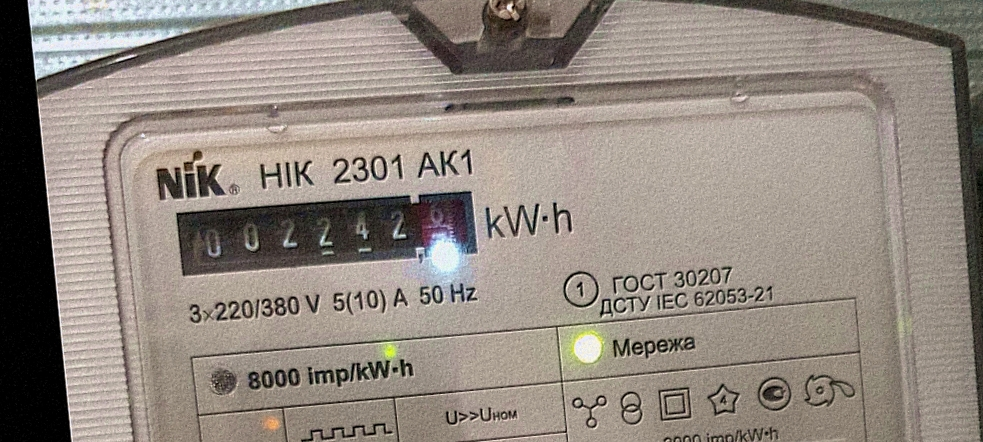0: (203, 226, 226, 261), (240, 220, 262, 254)
2: (278, 216, 300, 250), (315, 214, 336, 249), (389, 208, 409, 242)
4: (353, 208, 372, 242)
6: (428, 199, 446, 227)
screen: (165, 173, 490, 293)
